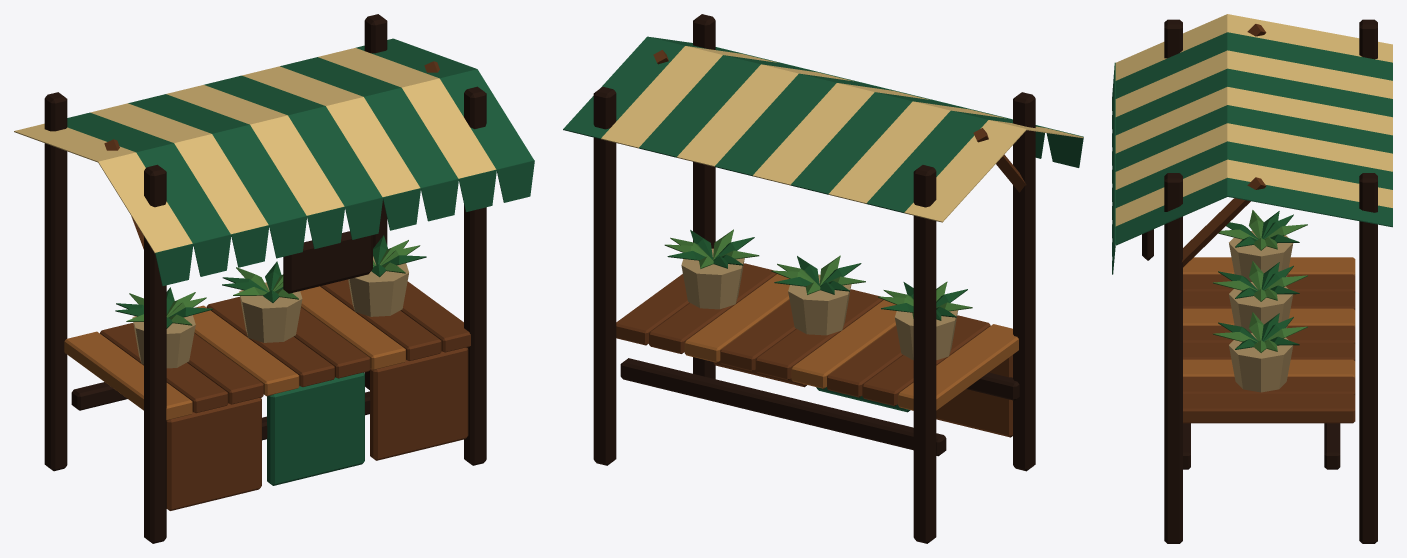
File: Banca_de_ervas_LOD0.fbx
3 renders of one model, left to right at view 1: azimuth 30°, elevation 25°; view 2: azimuth 150°, elevation 25°; view 3: azimuth 270°, elevation 25°, orthographic.
Parts seen in each view (by area): view 1: Banca_de_ervas_LOD0; view 2: Banca_de_ervas_LOD0; view 3: Banca_de_ervas_LOD0.
Part boxes in pixels (x1,y1,x2,y2): Banca_de_ervas_LOD0: (14, 14, 534, 543); Banca_de_ervas_LOD0: (563, 14, 1083, 543); Banca_de_ervas_LOD0: (1112, 14, 1392, 543).
Bounding box in the file's own units: 320 × 300 × 209.
Materials: 1 (1 with a texture image).
